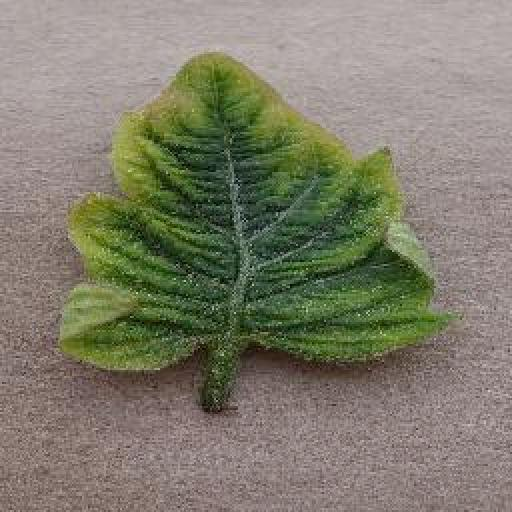disease_tomato: (54, 50, 456, 372)
